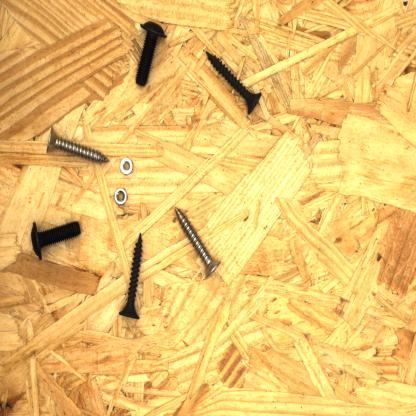screw: (203, 49, 263, 116), (173, 204, 222, 281), (44, 123, 112, 166), (28, 216, 84, 264), (116, 230, 144, 320), (134, 19, 169, 90)
